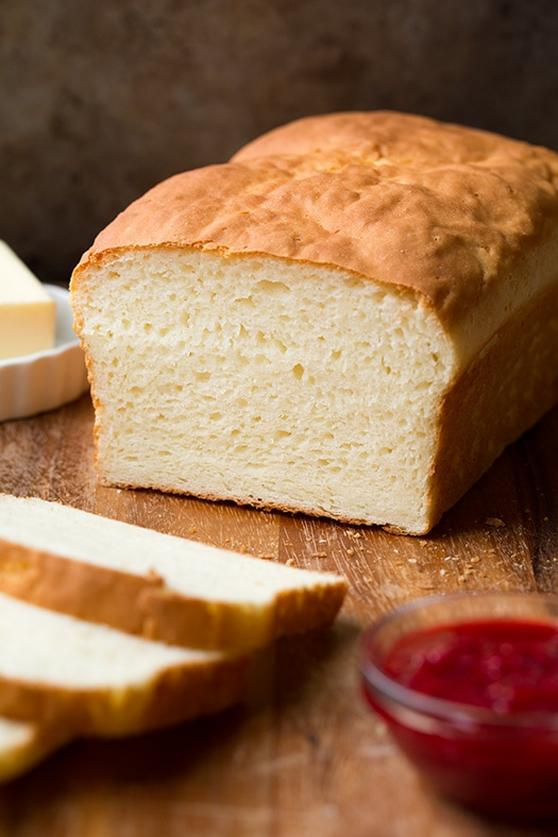white_bread: (72, 106, 555, 542)
